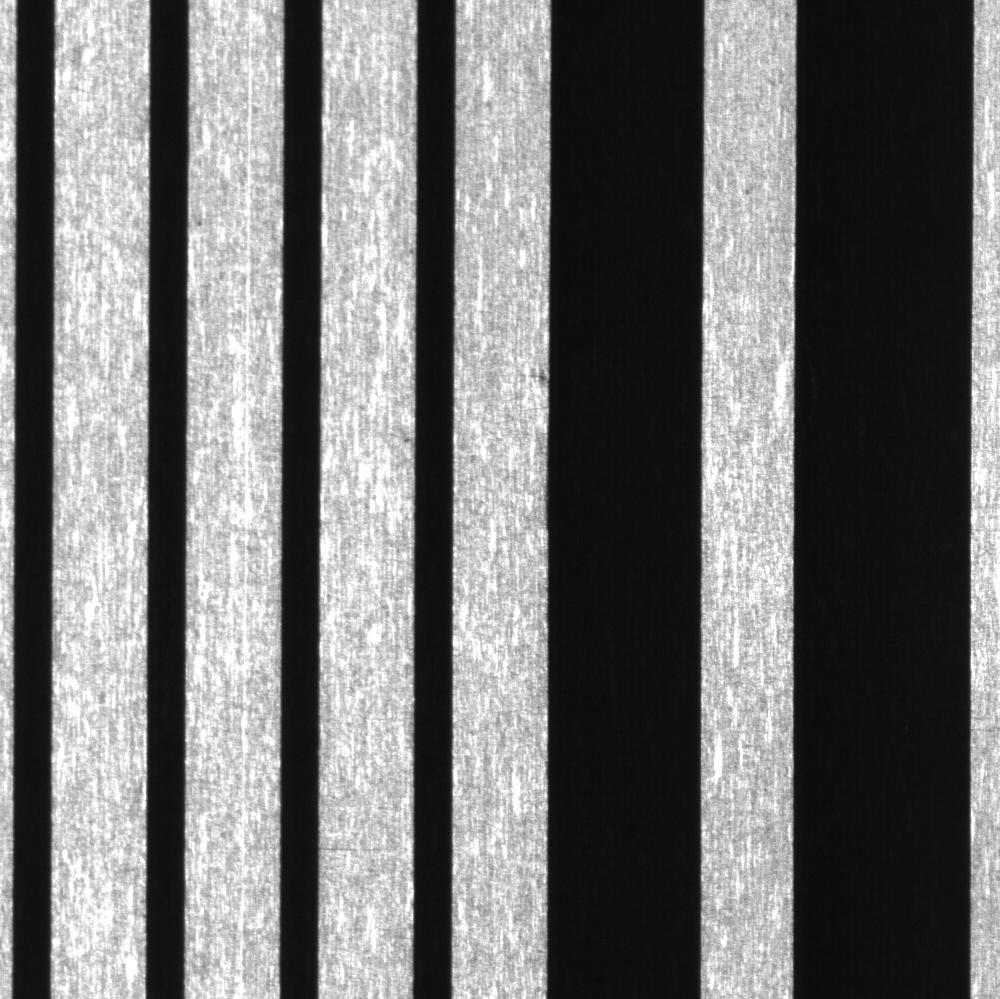Etching: (512, 357, 550, 393), (396, 427, 416, 453)
Pinhole: (190, 210, 213, 233)
Scar: (319, 831, 399, 866)
